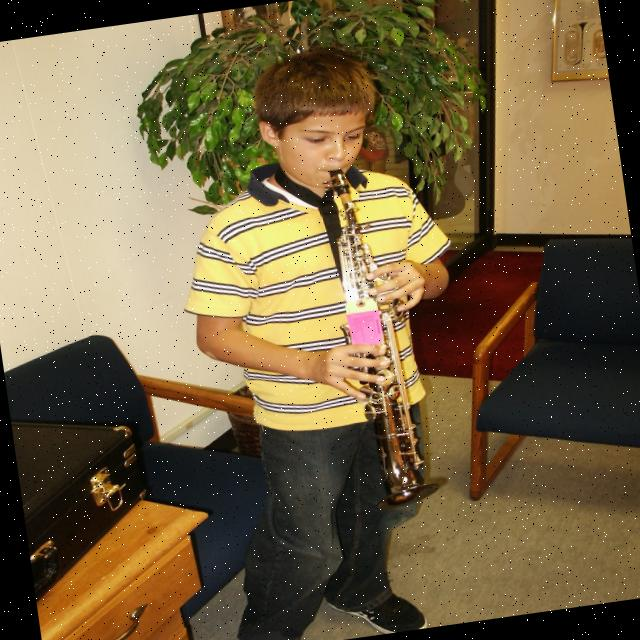saxophone: (308, 158, 439, 513)
